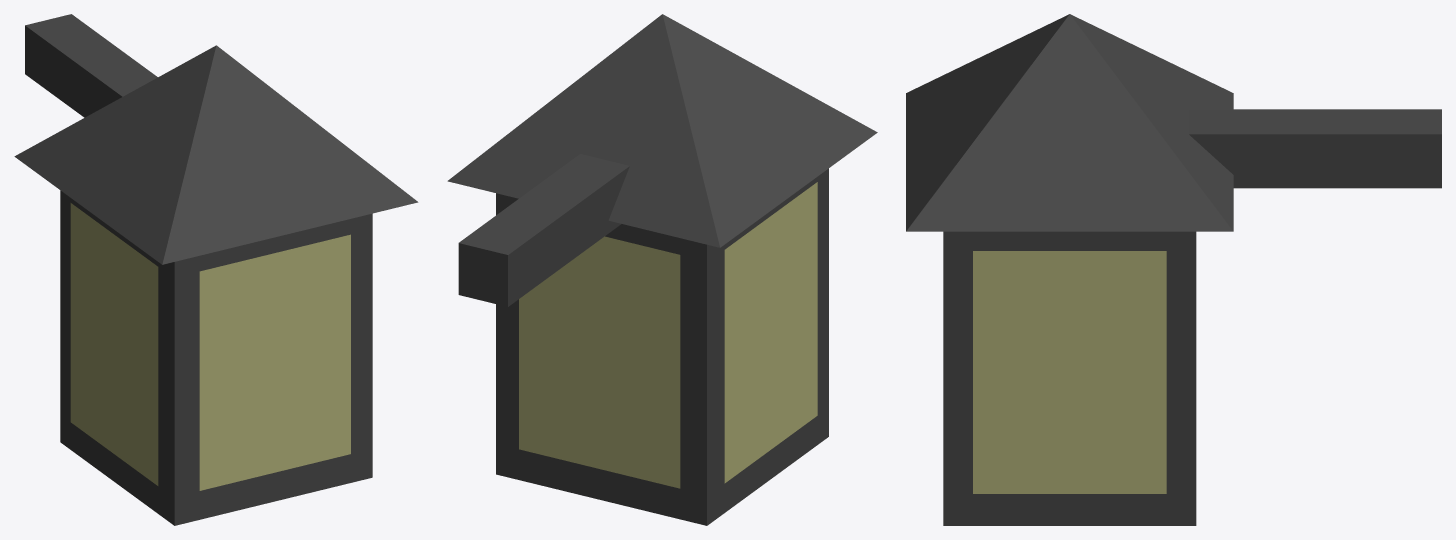
The model's file is lamp_wall.glb.
The picture shows the model from 3 angles, left to right: view 1: azimuth 30°, elevation 25°; view 2: azimuth 150°, elevation 25°; view 3: azimuth 270°, elevation 25°; orthographic projection. The views are drawn at different scales.
Parts seen in each view (by area): view 1: lamp_wall; view 2: lamp_wall; view 3: lamp_wall.
Boxes of the visible parts, x1,y1,x2,y2 form: lamp_wall: (14, 14, 418, 525); lamp_wall: (447, 14, 877, 525); lamp_wall: (906, 14, 1441, 525).
Size of the model in its own units: 0.44 by 0.68 by 0.72.
